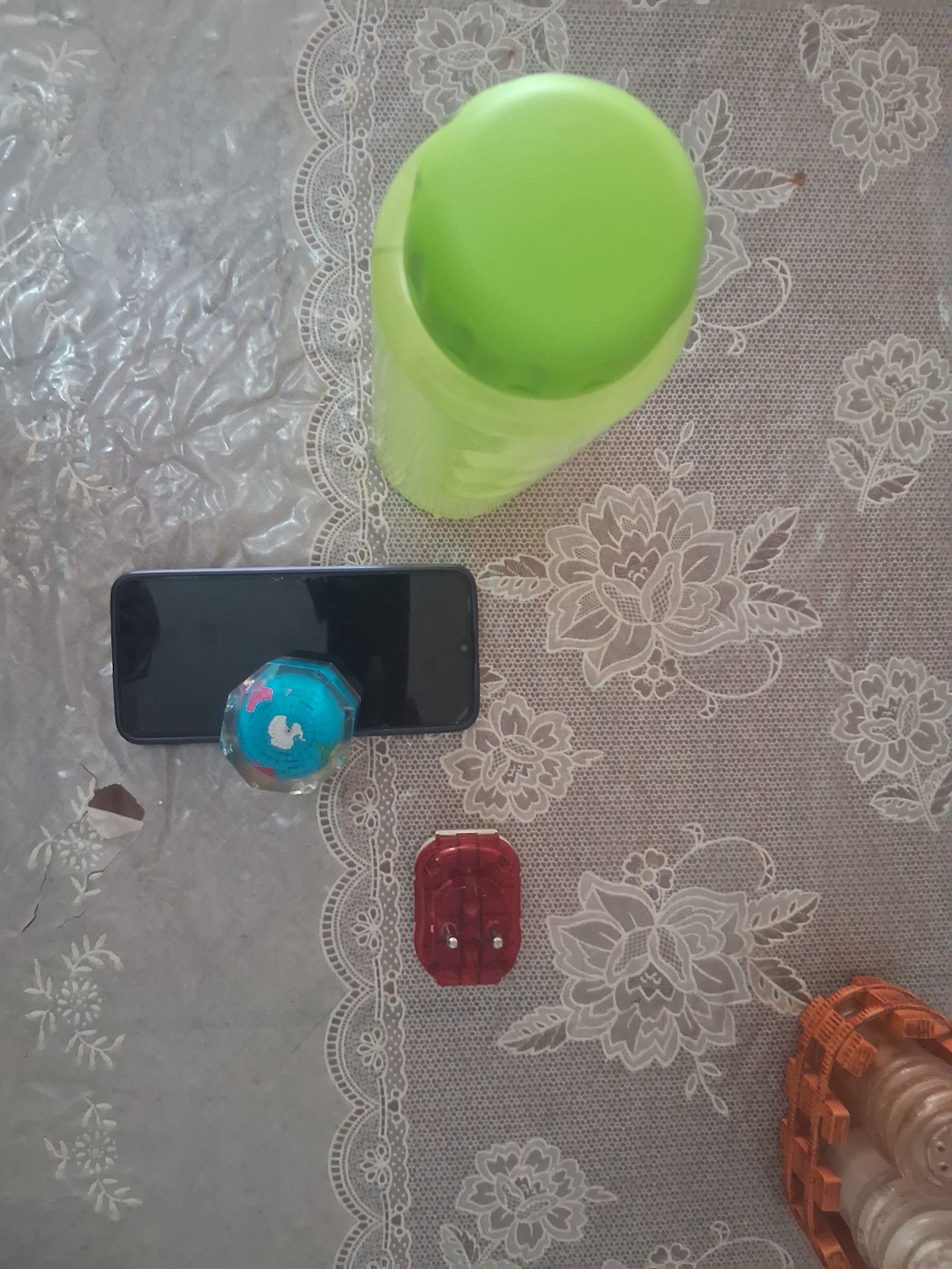Multi_adapter: (409, 818, 528, 993)
Smart_phone: (102, 557, 485, 748)
Water_bottle: (359, 69, 713, 524)
world_globe: (216, 652, 366, 799)
